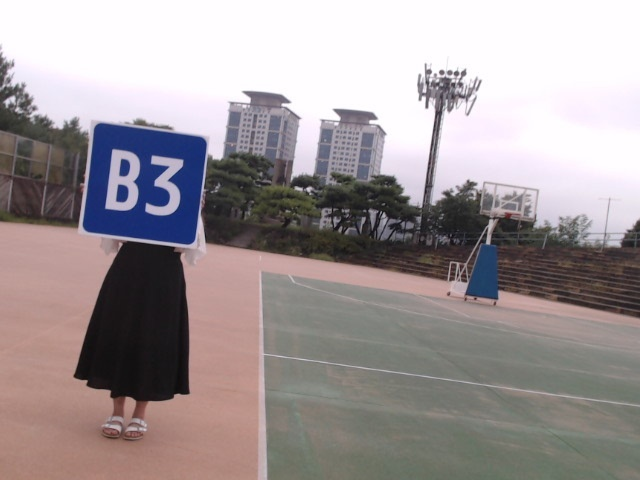delivery_b3: (80, 120, 207, 248)
